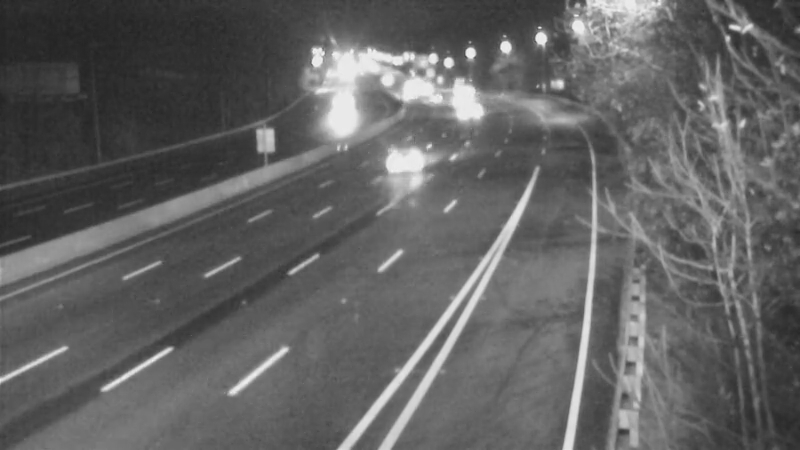vehicle: (374, 116, 454, 196), (360, 55, 410, 105), (440, 59, 490, 109), (389, 72, 439, 122), (429, 73, 479, 123), (445, 81, 495, 131), (316, 76, 366, 126)
